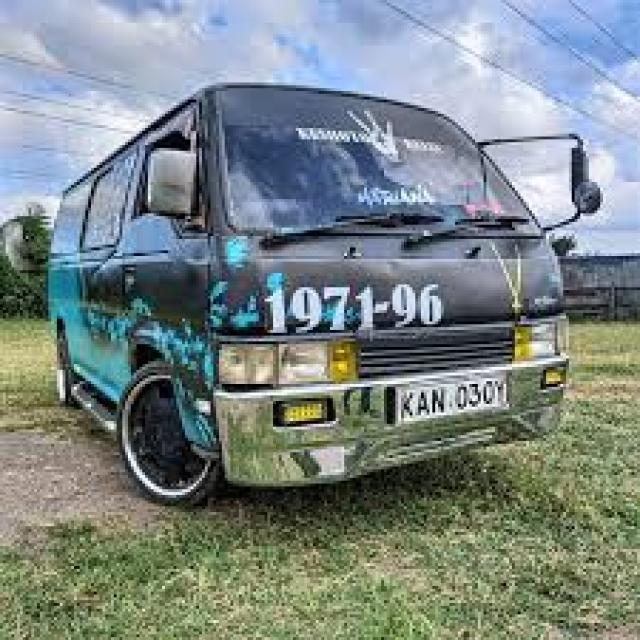matatu: (33, 33, 616, 566)
